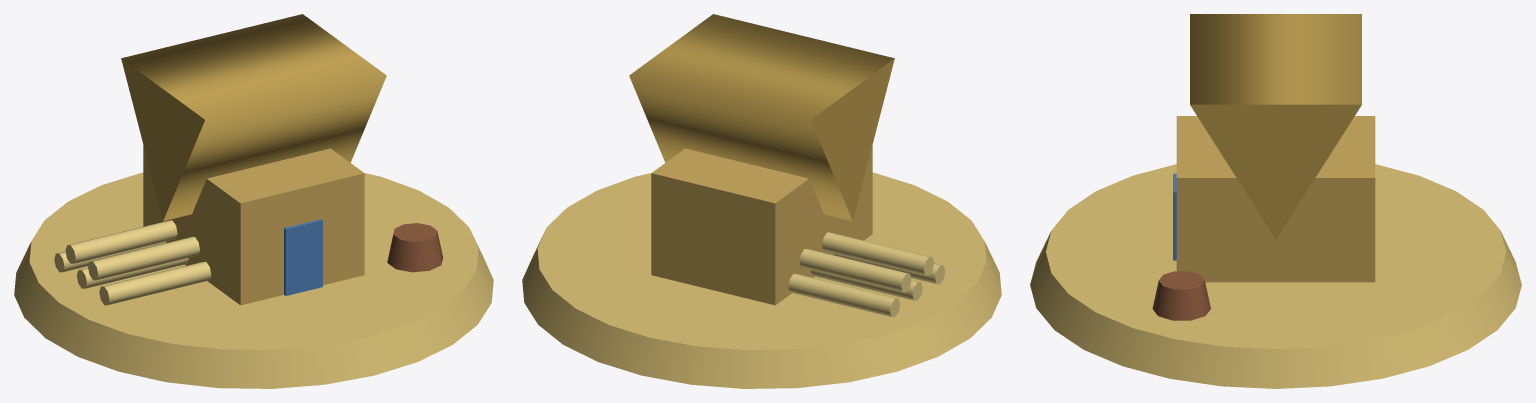
The model's file is casa-uros.glb.
3 renders of one model, left to right at view 1: azimuth 30°, elevation 25°; view 2: azimuth 150°, elevation 25°; view 3: azimuth 270°, elevation 25°, orthographic. The views are drawn at different scales.
Visible parts, largest first — view 1: Casa de totora; view 2: Casa de totora; view 3: Casa de totora.
Boxes of the visible parts, x1,y1,x2,y2 form: Casa de totora: (14,14,493,388); Casa de totora: (522,14,1001,388); Casa de totora: (1030,14,1521,388).
Bounding box in the file's own units: 4.7 × 2.38 × 4.7.
